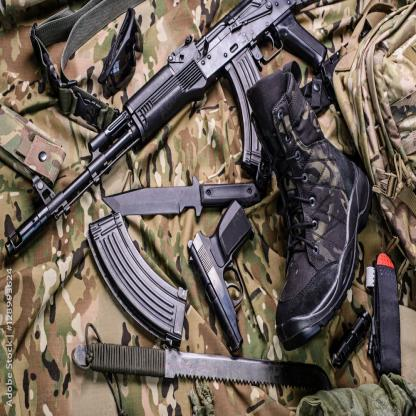Gun: (4, 0, 329, 258)
Knife: (72, 341, 333, 393), (102, 174, 261, 220)
Pistol: (186, 199, 256, 356)
